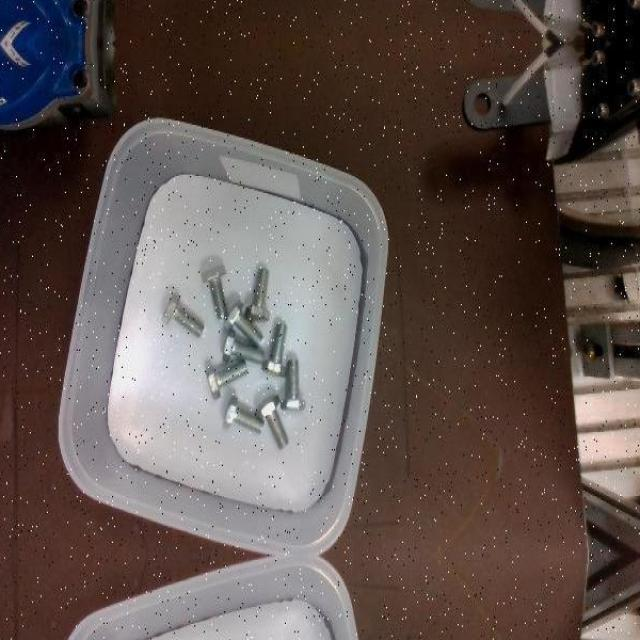screw: (224, 298, 265, 347), (162, 292, 205, 338), (256, 394, 290, 449), (206, 358, 248, 401), (223, 394, 264, 434), (223, 328, 264, 366), (202, 264, 229, 318), (245, 266, 271, 321), (262, 322, 288, 376), (282, 357, 307, 410)
